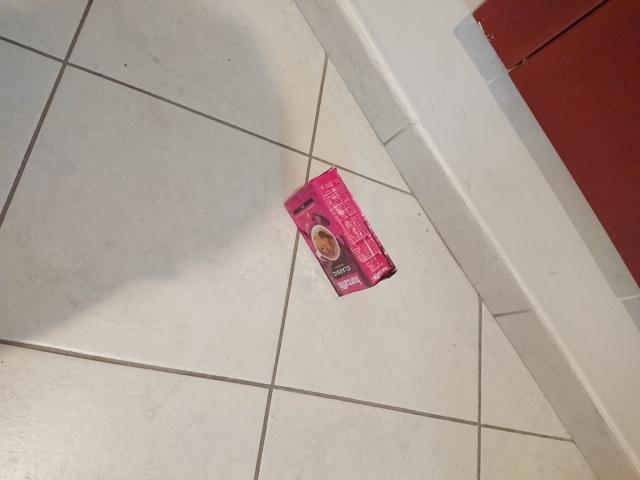Barcaffe Classic Original 225g: (282, 165, 400, 300)
